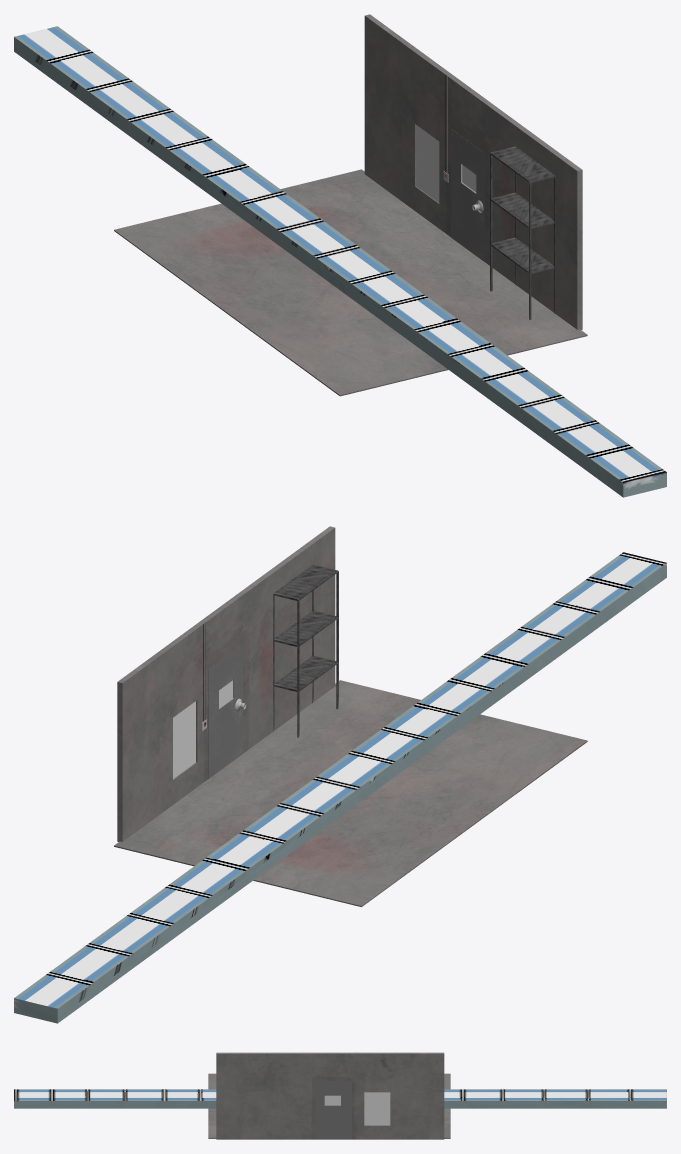
Rendered from CakeSmash_stage.fbx.
The picture shows the model from 3 angles, top to bottom: view 1: azimuth 30°, elevation 25°; view 2: azimuth 150°, elevation 25°; view 3: azimuth 270°, elevation 25°; orthographic projection. The views are drawn at different scales.
Visible parts, largest first — view 1: floor1, BeltConbea, Wall1, tana1, Door_NoWindow1, Galas; view 2: floor1, BeltConbea, Wall1, tana1, Door_NoWindow1, Galas; view 3: Wall1, BeltConbea, Door_NoWindow1, Galas, floor1, Galas1.
Boxes of the visible parts, box(x1,y1,x2,y2) form: floor1: box(114, 169, 587, 396); BeltConbea: box(14, 26, 666, 497); Wall1: box(364, 14, 582, 329); tana1: box(490, 146, 555, 319); Door_NoWindow1: box(451, 129, 484, 261); Galas: box(416, 125, 439, 202); floor1: box(114, 680, 587, 906); BeltConbea: box(14, 552, 666, 1023); Wall1: box(117, 526, 335, 841); tana1: box(273, 564, 338, 737); Door_NoWindow1: box(208, 645, 242, 778); Galas: box(173, 701, 195, 778); Wall1: box(216, 1052, 444, 1139); BeltConbea: box(14, 1089, 666, 1108); Door_NoWindow1: box(315, 1080, 351, 1139); Galas: box(364, 1092, 390, 1125); floor1: box(208, 1073, 450, 1138); Galas1: box(324, 1095, 340, 1105).
Size of the model in its own units: 12.35 by 7.54 by 52.05.
